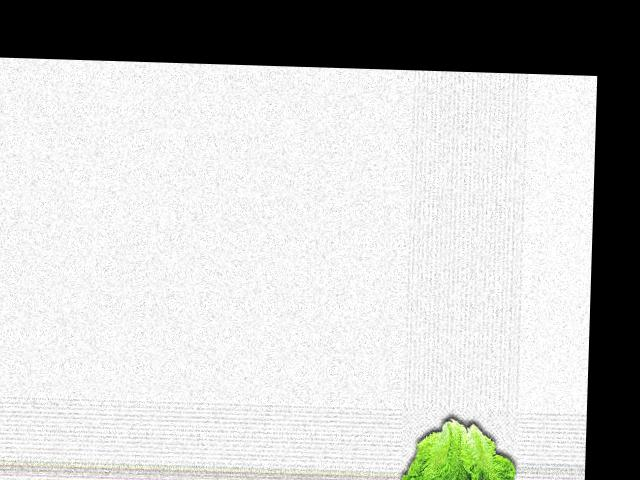lettuce: (402, 415, 520, 480)
